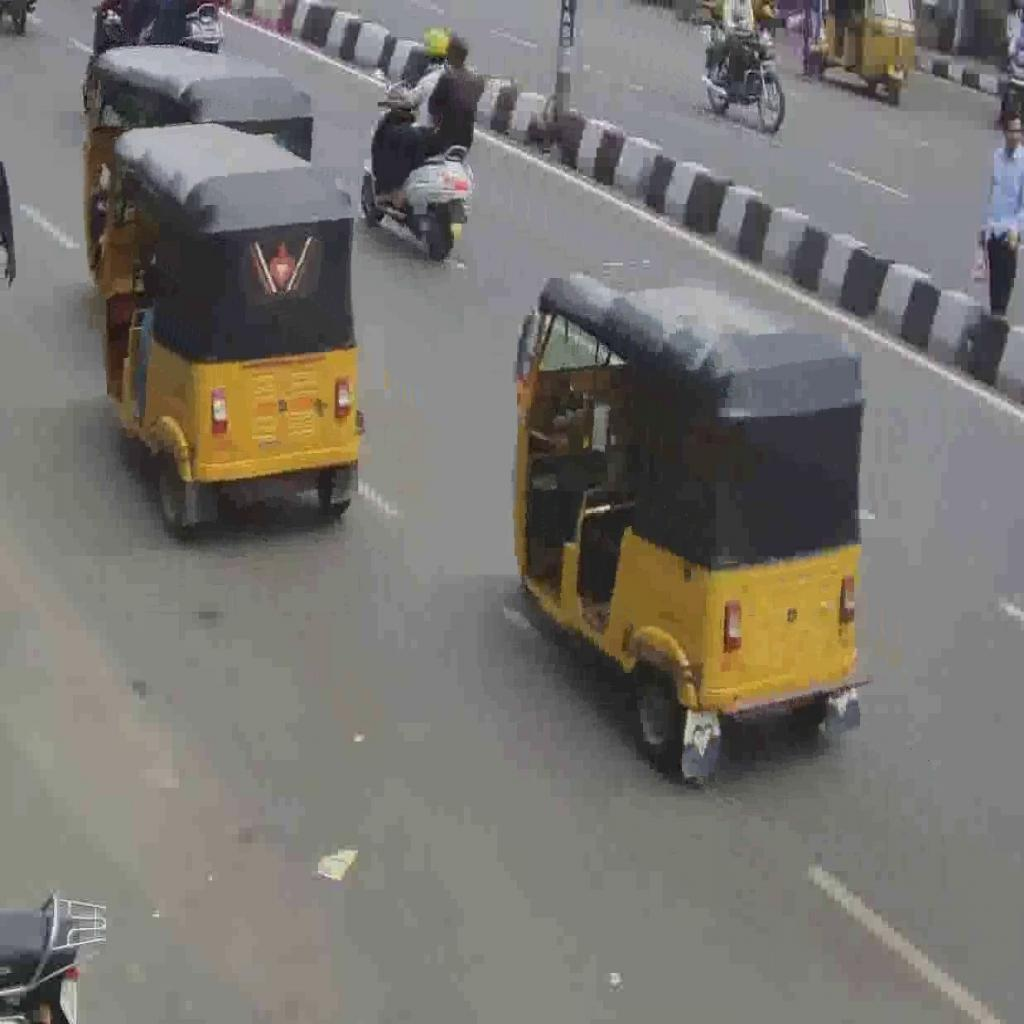helmet: (360, 79, 475, 264)
